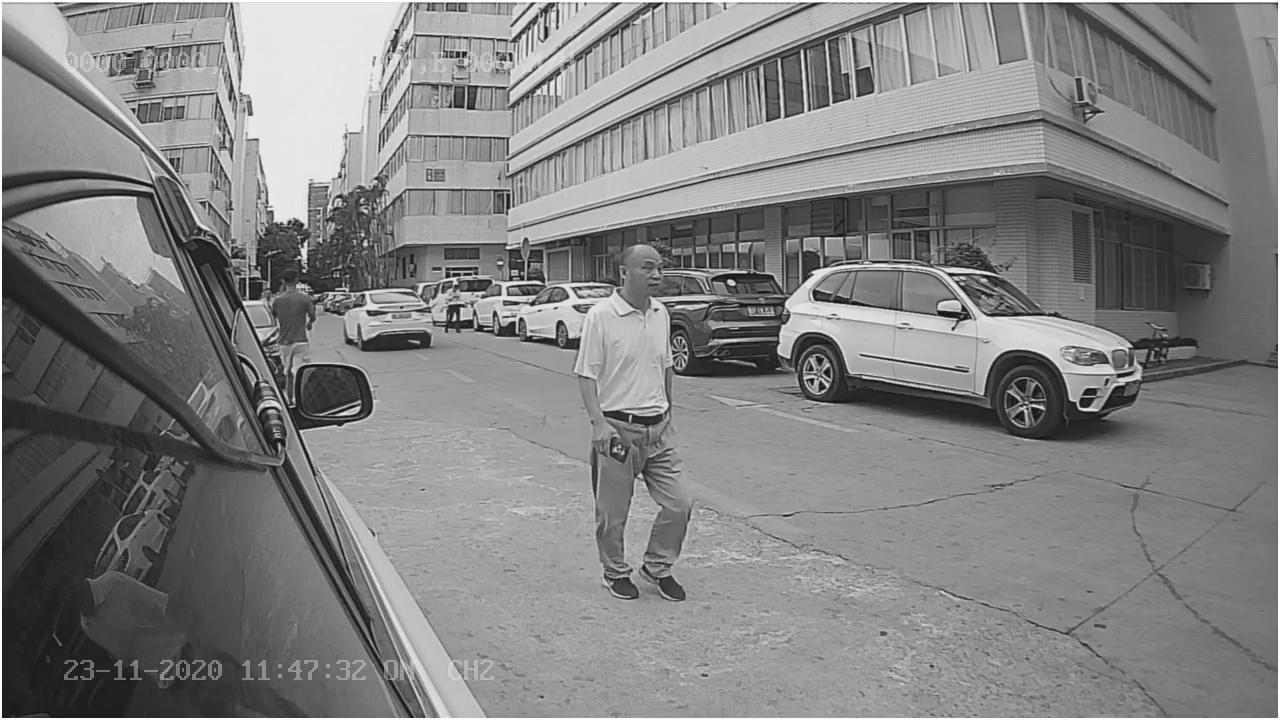person: (567, 222, 695, 604)
